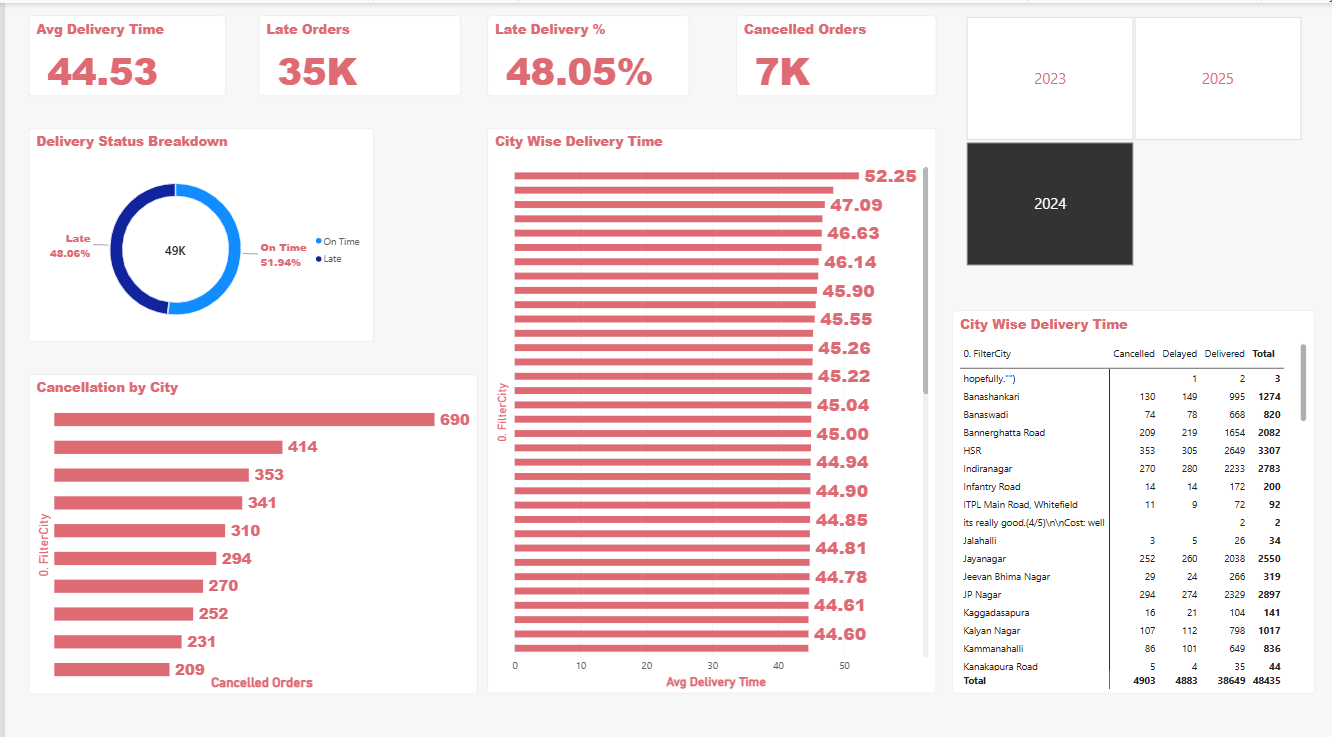

This screenshot's page, from the dashboard's own definition file:
{"tool":"powerbi","page":{"name":"Delivery and Operations","canvas":[1920,1080],"ordinal":3},"visuals":[{"type":"cardVisual","title":"Avg Delivery Time","fields":{"Data":["Orders.Avg Delivery Time"]},"box":[34.6,17.3,285.7,116.9],"z":0},{"type":"cardVisual","title":"Late Orders","fields":{"Data":["Orders.Late Orders"]},"box":[367.9,17.3,292.2,116.9],"z":1000},{"type":"cardVisual","title":"Late Delivery %","fields":{"Data":["Orders.Late Delivery %"]},"box":[699,17.3,292.2,116.9],"z":2000},{"type":"cardVisual","title":"Cancelled Orders","fields":{"Data":["Orders.Cancelled Orders"]},"box":[1058.3,17.3,290,116.9],"z":3000},{"type":"barChart","title":"City Wise Delivery Time ","fields":{"Category":["Customers.0. FilterCity"],"Y":["Orders.Avg Delivery Time"]},"box":[699,181.8,649.2,818],"z":4000},{"type":"donutChart","title":"Delivery Status Breakdown","fields":{"Y":["Orders.Total Orders"],"Category":["Orders.Delivery Status"]},"box":[34.4,181,499.5,309.5],"z":5000},{"type":"textbox","box":[535,182,150,617],"z":6000},{"type":"barChart","title":"Cancellation by City","fields":{"Category":["Customers.0. FilterCity"],"Y":["Orders.Cancelled Orders"]},"box":[34.6,536.7,649.2,463.1],"z":7000},{"type":"pivotTable","title":"City Wise Delivery Time ","fields":{"Rows":["Customers.0. FilterCity"],"Columns":["Orders.OrderStatus"],"Values":["Orders.Total Orders"]},"box":[1372.1,445.8,523.7,554],"z":8000},{"type":"slicer","fields":{"Values":["DateTable.Date.Variation.Date Hierarchy.Year"]},"box":[1372.1,17.3,523.7,363.6],"z":9000}]}

Visuals, with their boxes in screenshot pixels (x1, y1, x2, y2), scaled from the page's 1920x1080 canvas onto the 1332x737 screenshot:
"Avg Delivery Time" cardVisual: <region>24, 12, 222, 92</region>
"Late Orders" cardVisual: <region>255, 12, 458, 92</region>
"Late Delivery %" cardVisual: <region>485, 12, 688, 92</region>
"Cancelled Orders" cardVisual: <region>734, 12, 935, 92</region>
"City Wise Delivery Time " barChart: <region>485, 124, 935, 682</region>
"Delivery Status Breakdown" donutChart: <region>24, 124, 370, 335</region>
textbox: <region>371, 124, 475, 545</region>
"Cancellation by City" barChart: <region>24, 366, 474, 682</region>
"City Wise Delivery Time " pivotTable: <region>952, 304, 1315, 682</region>
slicer - DateTable.Date.Variation.Date Hierarchy.Year: <region>952, 12, 1315, 260</region>
